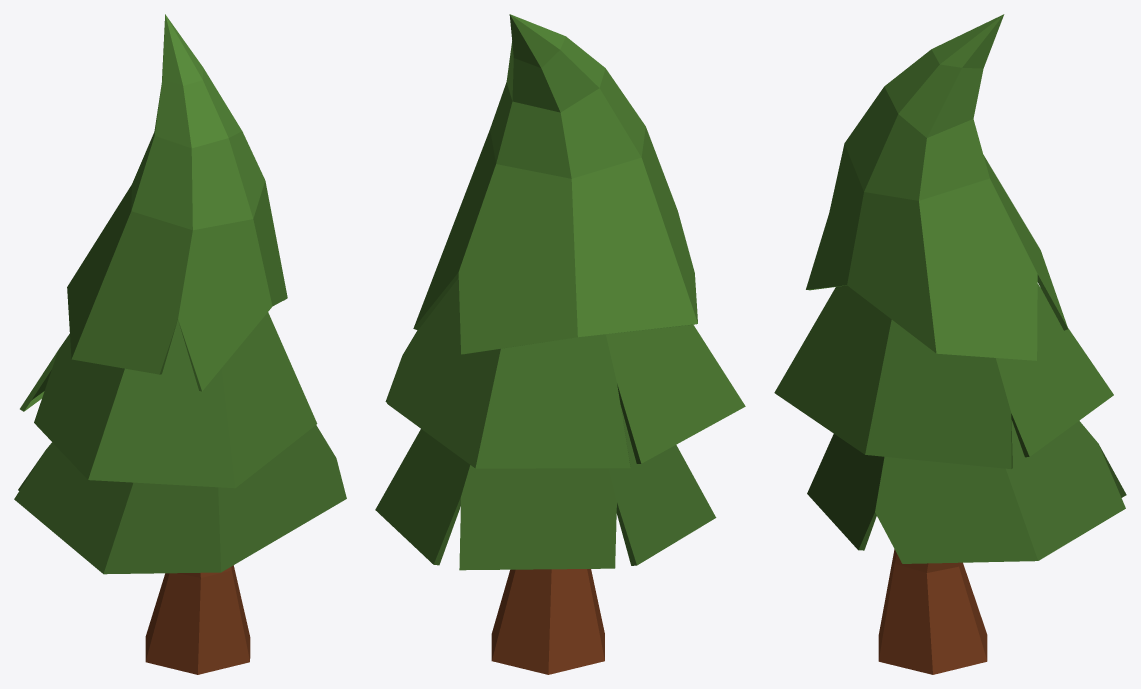
The model's file is Agac.fbx.
The picture shows the model from 3 angles, left to right: view 1: azimuth 30°, elevation 25°; view 2: azimuth 150°, elevation 25°; view 3: azimuth 270°, elevation 25°; orthographic projection. The views are drawn at different scales.
Visible parts, largest first — view 1: Agac, Agac.001, Agac.002, Agac_Govde; view 2: Agac, Agac.001, Agac.002, Agac_Govde; view 3: Agac, Agac.001, Agac.002, Agac_Govde.
Part boxes in pixels (x1=…): Agac: x1=67, y1=14, x2=287, y2=391; Agac.001: x1=20, y1=312, x2=317, y2=488; Agac.002: x1=14, y1=425, x2=346, y2=574; Agac_Govde: x1=145, y1=565, x2=250, y2=674; Agac: x1=413, y1=14, x2=697, y2=354; Agac.001: x1=385, y1=278, x2=745, y2=468; Agac.002: x1=375, y1=405, x2=716, y2=570; Agac_Govde: x1=491, y1=569, x2=604, y2=674; Agac: x1=806, y1=14, x2=1068, y2=360; Agac.001: x1=774, y1=284, x2=1113, y2=469; Agac.002: x1=807, y1=420, x2=1126, y2=563; Agac_Govde: x1=878, y1=549, x2=987, y2=674.
Bounding box in the file's own units: 137 × 297 × 149.
